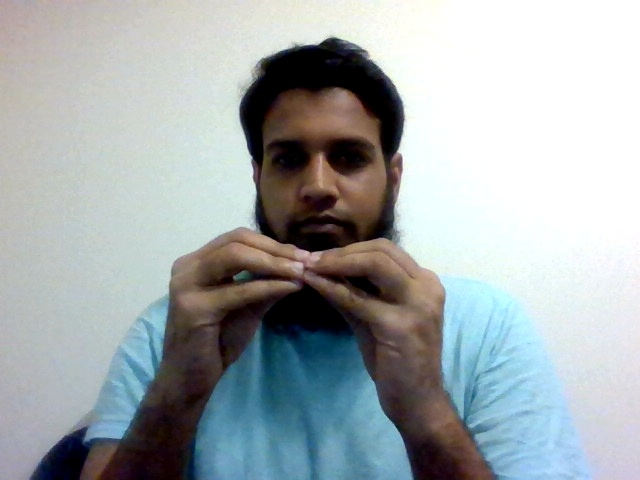more: (161, 224, 451, 408)
